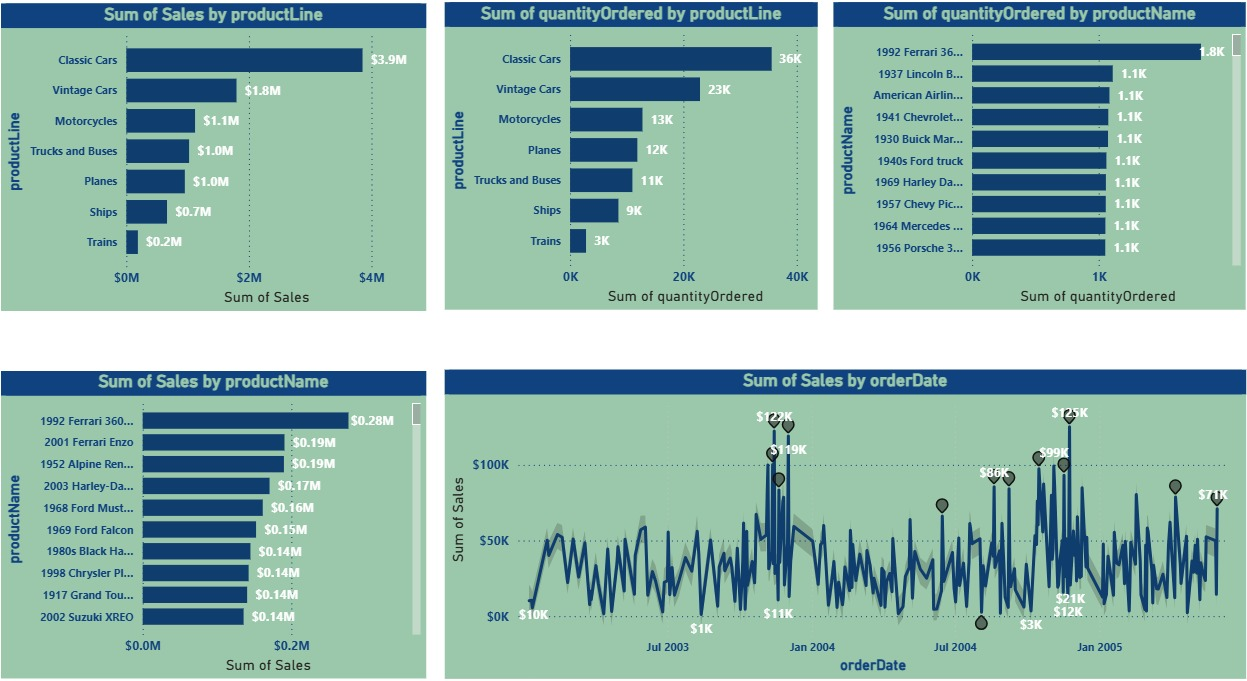

This screenshot's page, from the dashboard's own definition file:
{"tool":"powerbi","page":{"name":"Page 2","canvas":[1280,720],"ordinal":2},"visuals":[{"type":"actionButton","box":[0,0,40.4,40.4],"z":0},{"type":"barChart","fields":{"Category":["productlines.productLine"],"Y":["Sum(order details.Sales)"]},"box":[49.4,22,415.8,300.5],"z":1000},{"type":"barChart","fields":{"Category":["productlines.productLine"],"Y":["Sum(order details.quantityOrdered)"]},"box":[483,20.6,365,300.5],"z":2000},{"type":"barChart","fields":{"Category":["products.productName"],"Y":["Sum(order details.Sales)"]},"box":[48.9,381.5,415.8,300.8],"z":3000},{"type":"barChart","fields":{"Category":["products.productName"],"Y":["Sum(order details.quantityOrdered)"]},"box":[863.1,20.6,403.4,300.5],"z":4000},{"type":"lineChart","fields":{"Y":["Sum(order details.Sales)"],"Category":["orders.orderDate"]},"box":[483,380.3,783.8,302],"z":5000}]}

Visuals, with their boxes on the page's 1280x720 design canvas (x1, y1, x2, y2). These are canvas units, not pixel positions in the 1247x681 screenshot, which may show the page scaled, cropped or inside an application window:
actionButton: left=0, top=0, right=40, bottom=40
barChart - productlines.productLine x Sum(order details.Sales): left=49, top=22, right=465, bottom=322
barChart - productlines.productLine x Sum(order details.quantityOrdered): left=483, top=21, right=848, bottom=321
barChart - products.productName x Sum(order details.Sales): left=49, top=382, right=465, bottom=682
barChart - products.productName x Sum(order details.quantityOrdered): left=863, top=21, right=1266, bottom=321
lineChart - Sum(order details.Sales) x orders.orderDate: left=483, top=380, right=1267, bottom=682
